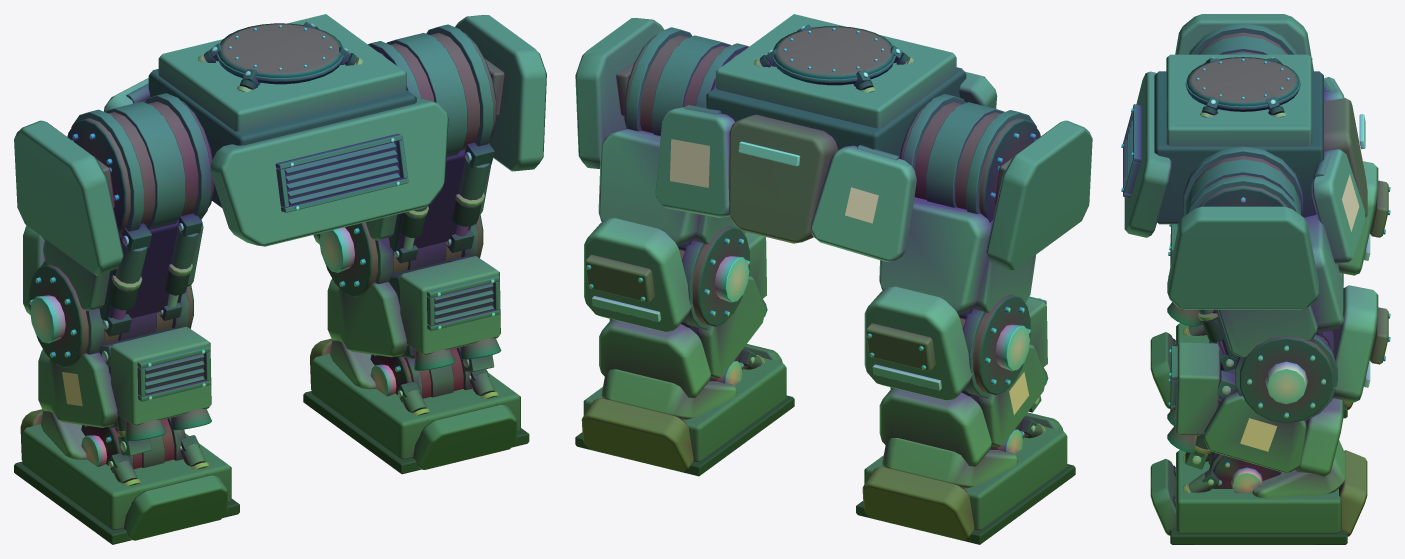
File: legs_biped_assault.glb
The picture shows the model from 3 angles, left to right: view 1: azimuth 30°, elevation 25°; view 2: azimuth 150°, elevation 25°; view 3: azimuth 270°, elevation 25°; orthographic projection. The views are drawn at different scales.
Parts seen in each view (by area): view 1: Body__armor_sub, Leg_L__dark, Leg_R_Ankle__gunmetal, Leg_L_Ankle__gunmetal, Leg_L__armor_sub, Body__dark, Leg_L__gunmetal, Leg_R_Knee__armor_sub, Leg_R__dark, Leg_L_Knee__armor_sub, Leg_R__gunmetal, Leg_R__armor_sub (+19 smaller); view 2: Body__armor, Leg_L_Knee__armor, Leg_R_Knee__armor, Leg_L__armor_sub, Body__armor_sub, Body__dark, Body__armor_oxide, Leg_L__armor, Leg_L__dark, Leg_L__gunmetal, Leg_R__armor_sub, Leg_R__armor (+21 smaller); view 3: Leg_R__armor_sub, Body__armor_sub, Body__dark, Leg_R_Ankle__gunmetal, Leg_R_Knee__armor_sub, Leg_R__dark, Leg_R_Knee__armor, Leg_R__gunmetal, Body__armor, Leg_L__armor_sub, Leg_R__armor, Body__armor_oxide (+18 smaller).
Part boxes in pixels (box(x1,y1,x2,y2)): Body__armor_sub: box(158, 14, 448, 246); Leg_L__dark: box(29, 101, 214, 367); Leg_R_Ankle__gunmetal: box(311, 347, 520, 469); Leg_L_Ankle__gunmetal: box(22, 418, 231, 540); Leg_L__armor_sub: box(14, 120, 203, 311); Body__dark: box(148, 22, 416, 207); Leg_L__gunmetal: box(41, 93, 211, 354); Leg_R_Knee__armor_sub: box(338, 256, 500, 357); Leg_R__dark: box(318, 32, 496, 297); Leg_L_Knee__armor_sub: box(48, 326, 211, 427); Leg_R__gunmetal: box(368, 24, 493, 283); Leg_R__armor_sub: box(365, 15, 546, 240); Body__armor: box(655, 107, 916, 261); Leg_L_Knee__armor: box(864, 286, 991, 466); Leg_R_Knee__armor: box(584, 218, 710, 398); Leg_L__armor_sub: box(973, 120, 1092, 313); Body__armor_sub: box(715, 14, 997, 128); Body__dark: box(706, 24, 966, 156); Body__armor_oxide: box(728, 114, 837, 243); Leg_L__armor: box(879, 197, 991, 314); Leg_L__dark: box(899, 102, 1040, 394); Leg_L__gunmetal: box(902, 94, 1036, 398); Leg_R__armor_sub: box(575, 18, 745, 244); Leg_R__armor: box(598, 129, 701, 245); Leg_R__armor_sub: box(1167, 206, 1318, 357); Body__armor_sub: box(1124, 54, 1312, 237); Body__dark: box(1154, 57, 1323, 224); Leg_R_Ankle__gunmetal: box(1150, 450, 1341, 535); Leg_R_Knee__armor_sub: box(1175, 342, 1306, 472); Leg_R__dark: box(1194, 156, 1333, 423); Leg_R_Knee__armor: box(1295, 285, 1378, 476); Leg_R__gunmetal: box(1183, 146, 1337, 421); Body__armor: box(1311, 77, 1365, 263); Leg_L__armor_sub: box(1175, 14, 1313, 71); Leg_R__armor: box(1304, 215, 1343, 332); Body__armor_oxide: box(1324, 98, 1367, 217).
Size of the model in its own units: 2.47 by 2.11 by 1.36.
